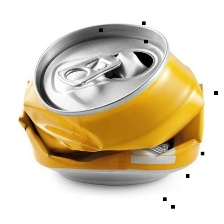can: (13, 17, 208, 191)
